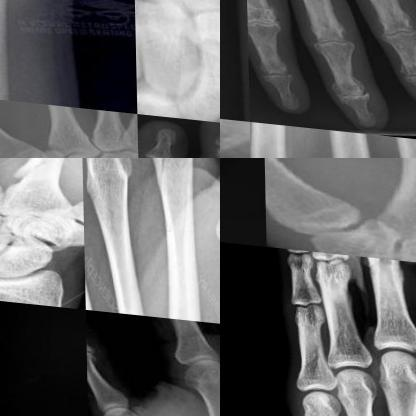fracture: (150, 158, 183, 205), (220, 109, 250, 157), (17, 158, 82, 167)
